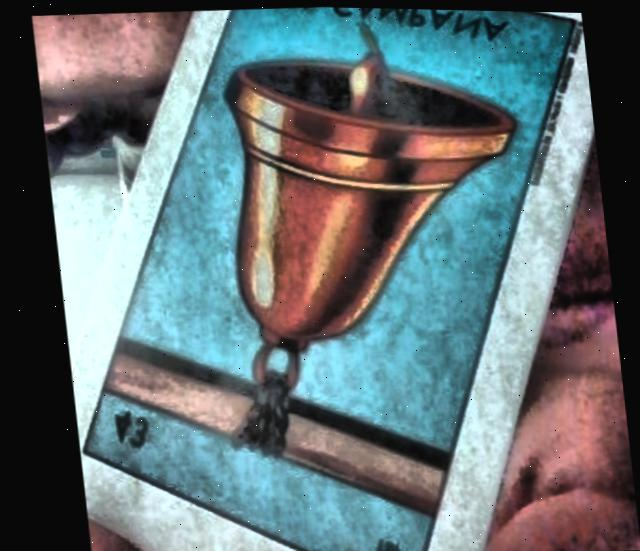La Campana: (79, 5, 574, 551)
